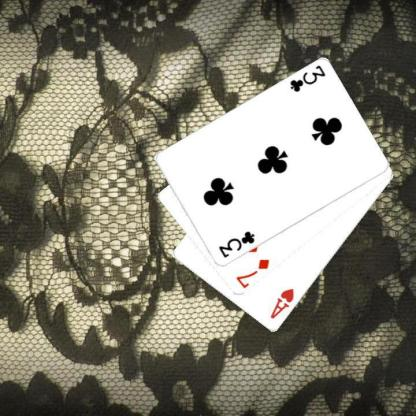3C: (287, 62, 327, 94), (215, 229, 256, 259)
7D: (233, 256, 271, 289)
AH: (268, 286, 295, 321)
